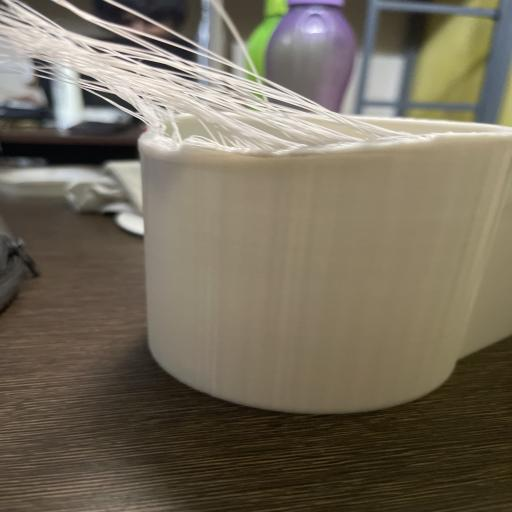stringing: (4, 36, 415, 157)
